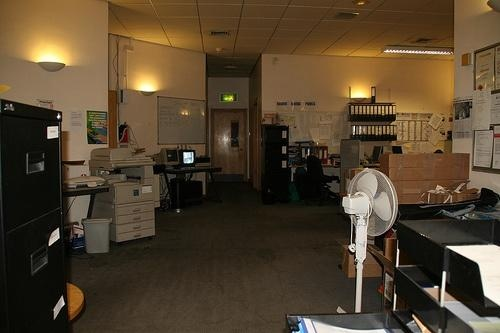tvmonitor: (152, 148, 181, 169), (179, 149, 198, 168)
